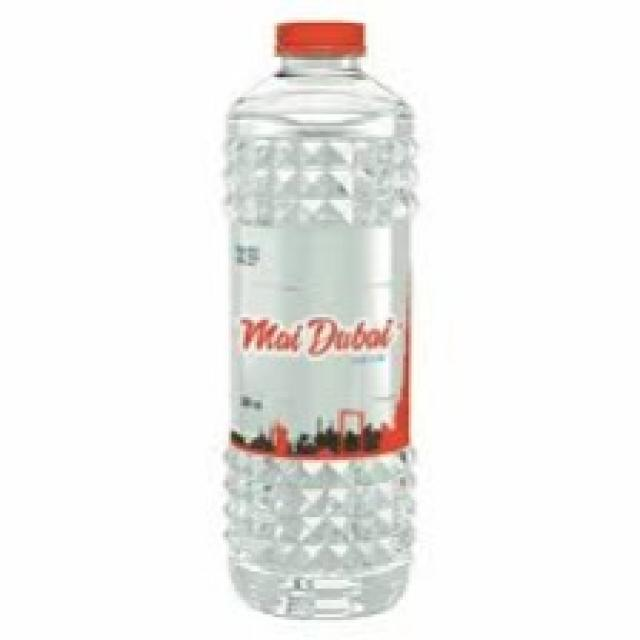plastic_bottle: (172, 7, 425, 623)
